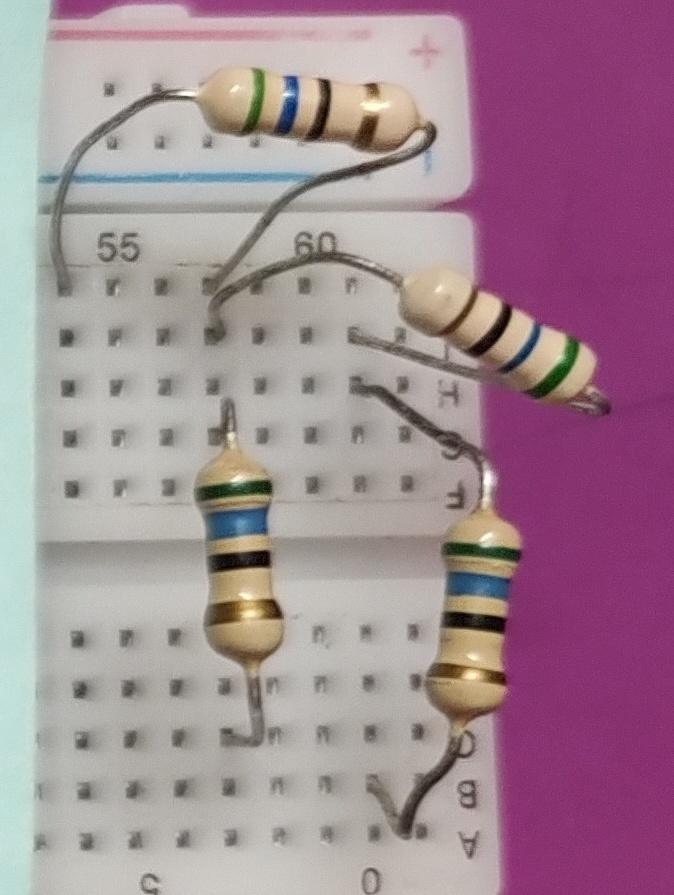resistor: (390, 249, 600, 416), (175, 47, 431, 161), (182, 429, 297, 671), (417, 499, 534, 732)
